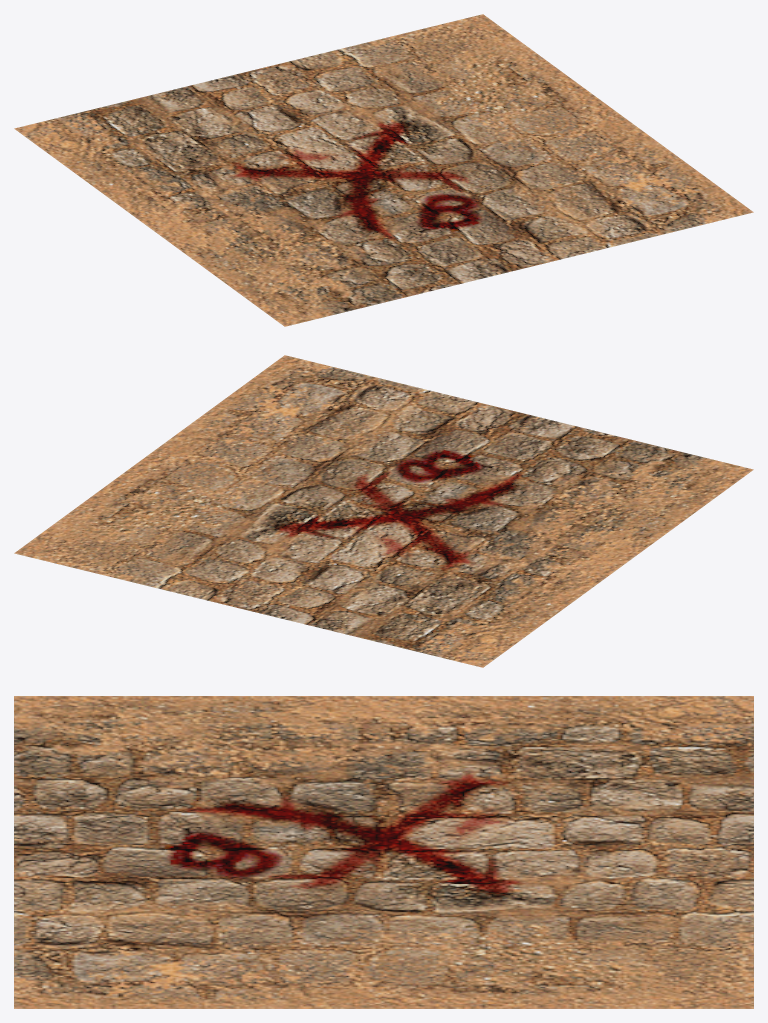
3 views of the same model, one above another, from view 1: azimuth 30°, elevation 25°; view 2: azimuth 150°, elevation 25°; view 3: azimuth 270°, elevation 25° (orthographic). The views are drawn at different scales.
Visible parts, largest first — view 1: Object_17; view 2: Object_17; view 3: Object_17.
Part boxes in pixels (bbox=[...]): Object_17: bbox=[14, 14, 753, 326]; Object_17: bbox=[14, 355, 753, 667]; Object_17: bbox=[14, 696, 753, 1008].
Size of the model in its own units: 3.41 by 1.52e-15 by 3.41.
Materials: 1 (1 with a texture image).
